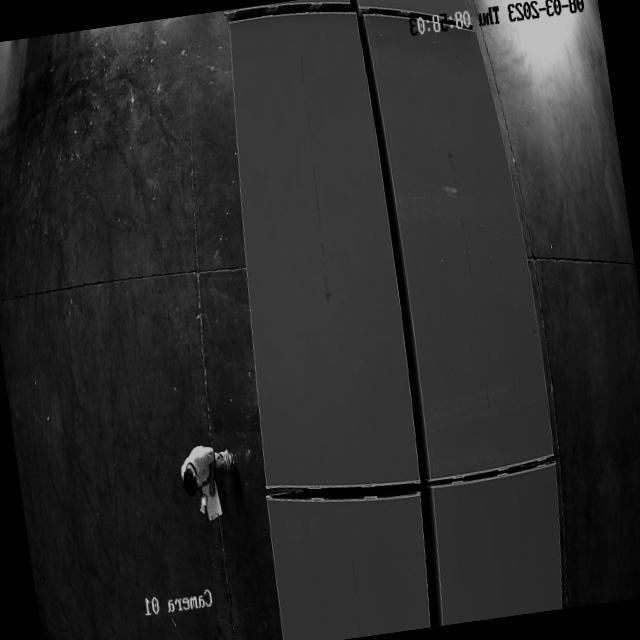person: (174, 427, 246, 536)
